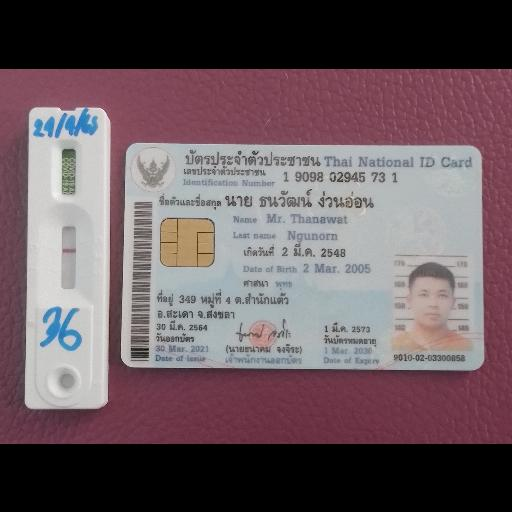Neg: (28, 102, 108, 404)
